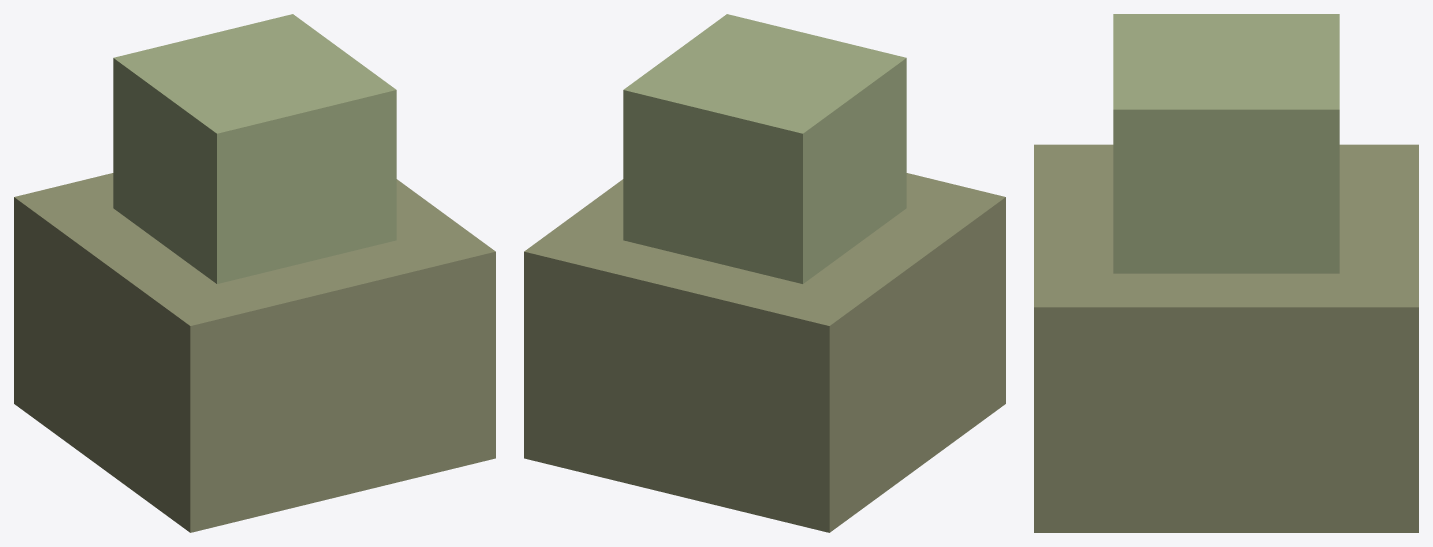
The model's file is garden_center.glb.
3 renders of one model, left to right at view 1: azimuth 30°, elevation 25°; view 2: azimuth 150°, elevation 25°; view 3: azimuth 270°, elevation 25°, orthographic. The views are drawn at different scales.
Visible parts, largest first — view 1: world; view 2: world; view 3: world.
Boxes of the visible parts, x1,y1,x2,y2 form: world: (14, 14, 495, 532); world: (524, 14, 1005, 532); world: (1034, 14, 1418, 532).
Size of the model in its own units: 0.34 by 0.38 by 0.34.
